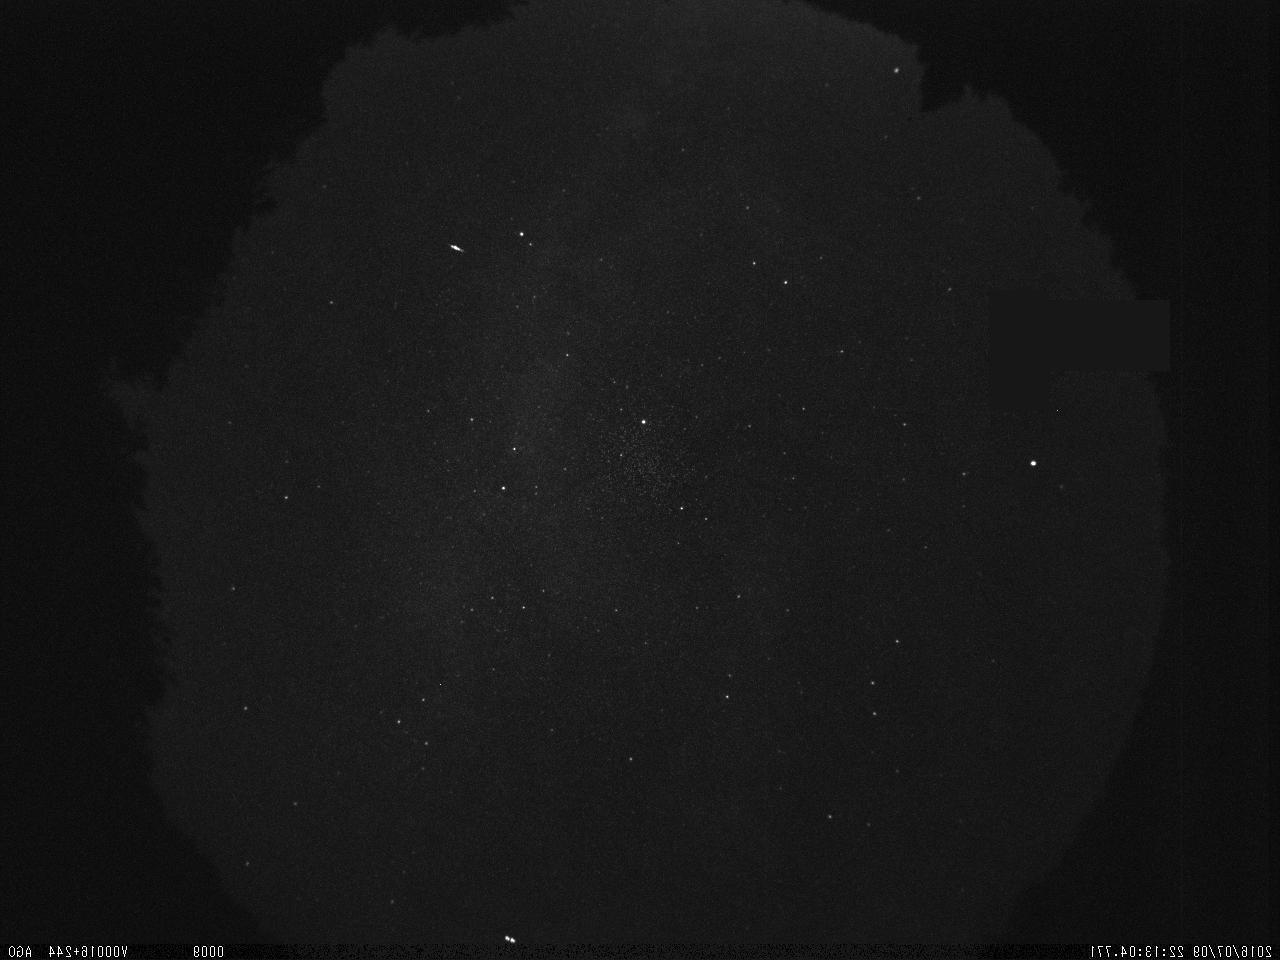meteor: (441, 237, 471, 260)
